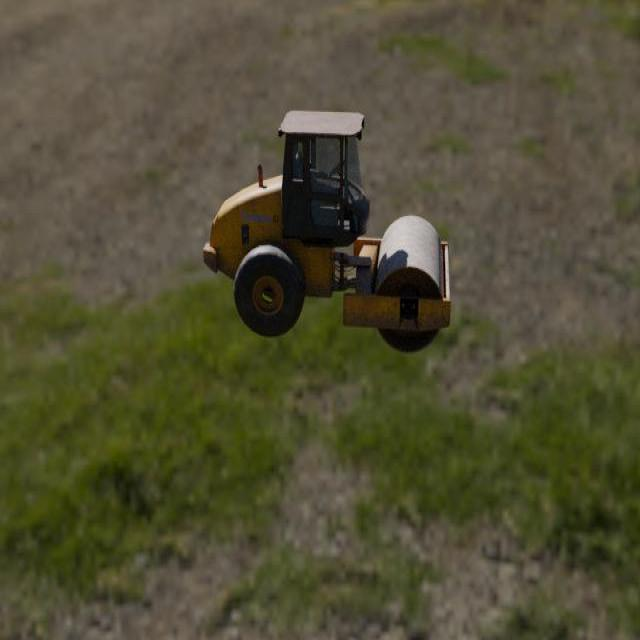Roller: (202, 111, 451, 353)
